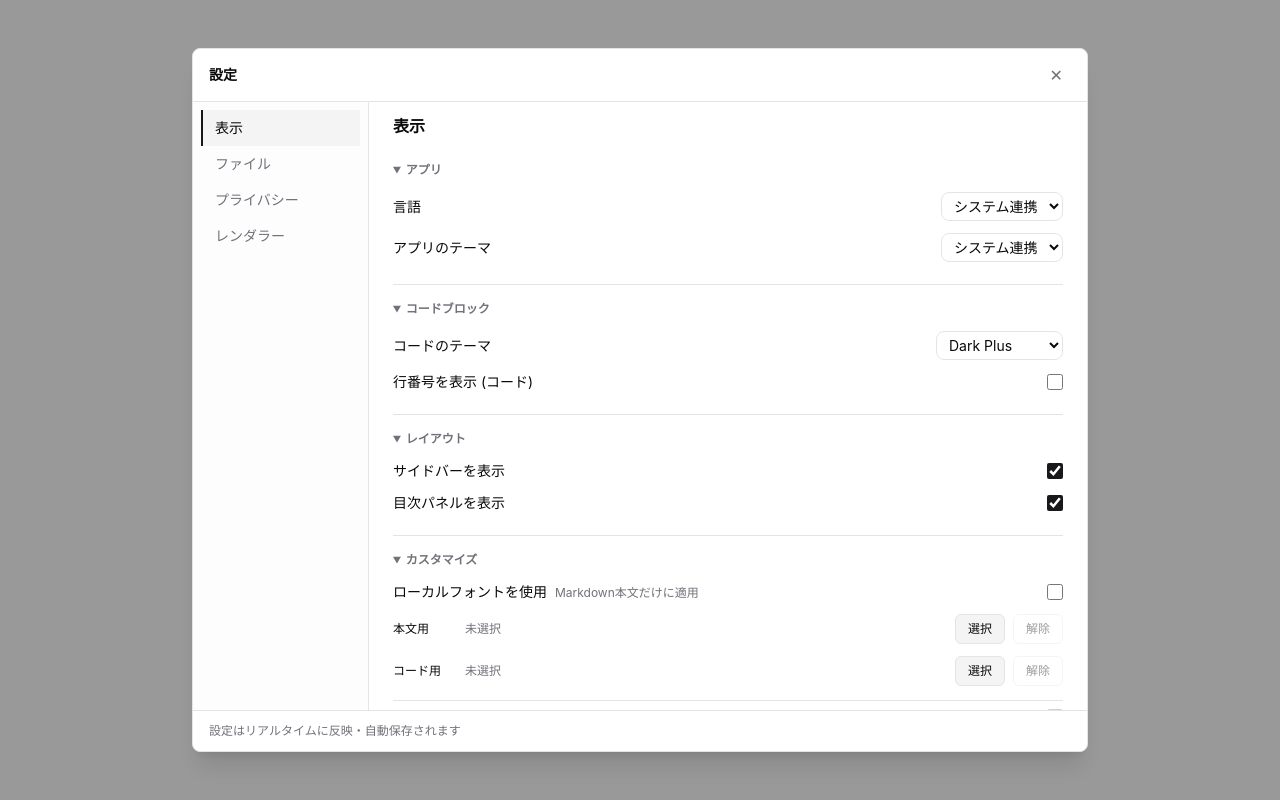
Scenario: SettingsPanel › カテゴリを切り替えて対応する設定だけを表示する
Click the button "ファイル" at (280, 164), box [201,146,360,182]
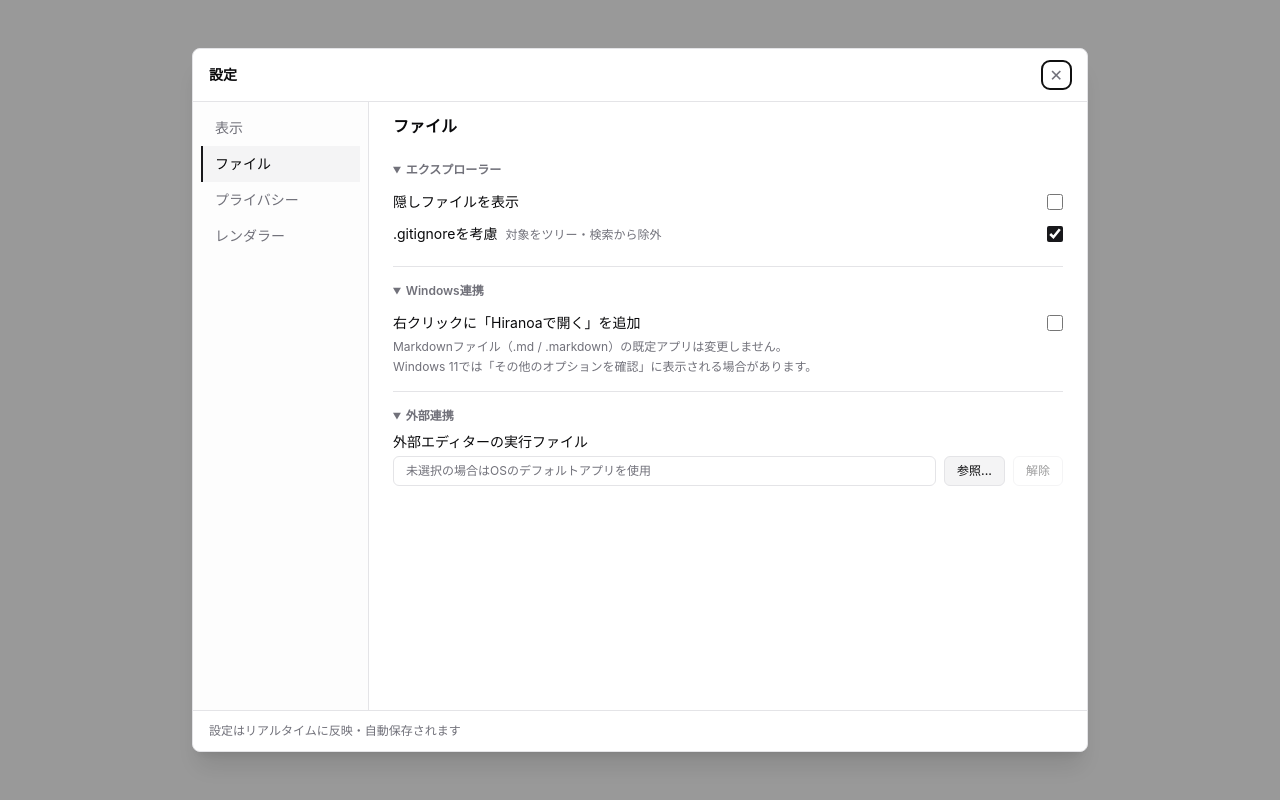
Expected: the heading "ファイル" is shown, [393,116,457,136]
Expected: the text "外部エディターの実行ファイル" is shown, [393,433,588,450]
Expected: the text "アプリのテーマ" is gone
Click the button "プライバシー" at (280, 200), box [201,182,360,218]
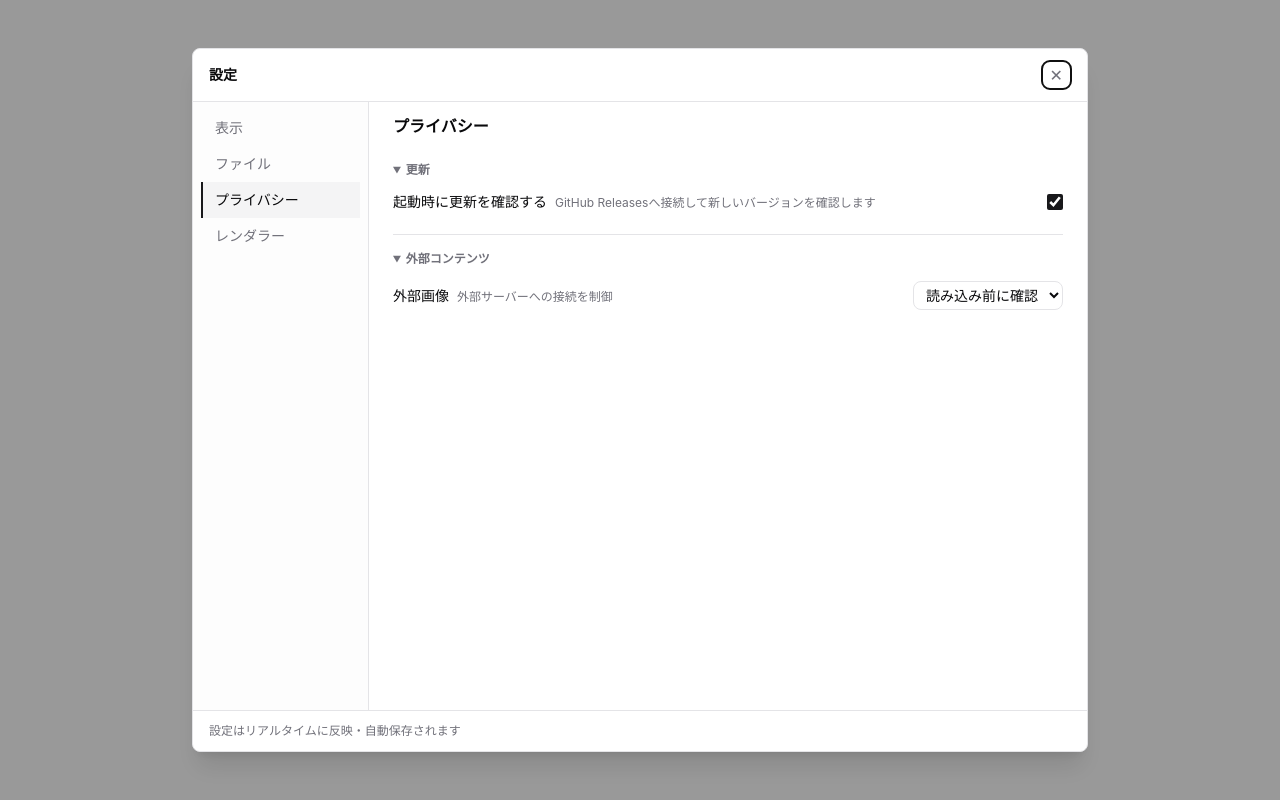
Expected: the text "外部画像" is shown, [393,286,453,304]
Click the button "レンダラー" at (280, 236), box [201,218,360,254]
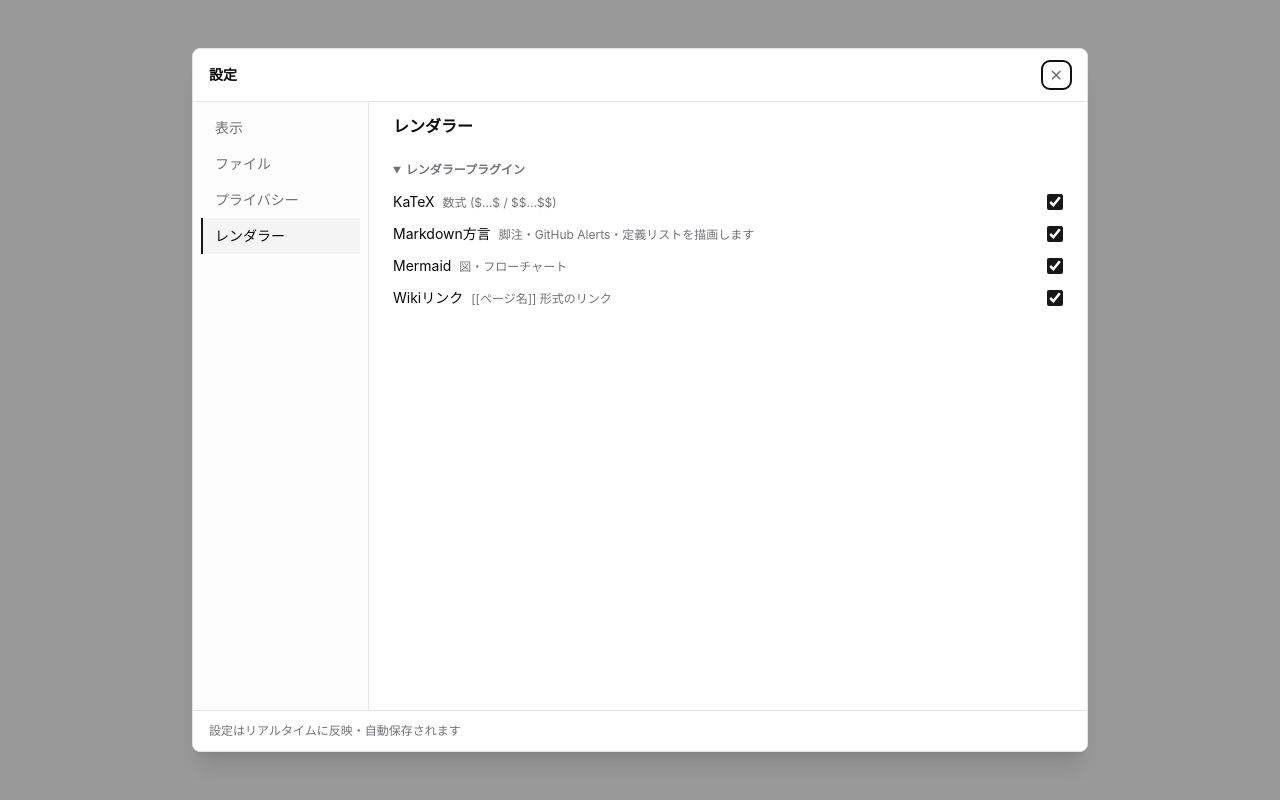
Expected: the heading "レンダラープラグイン" is shown, [406,162,525,177]
